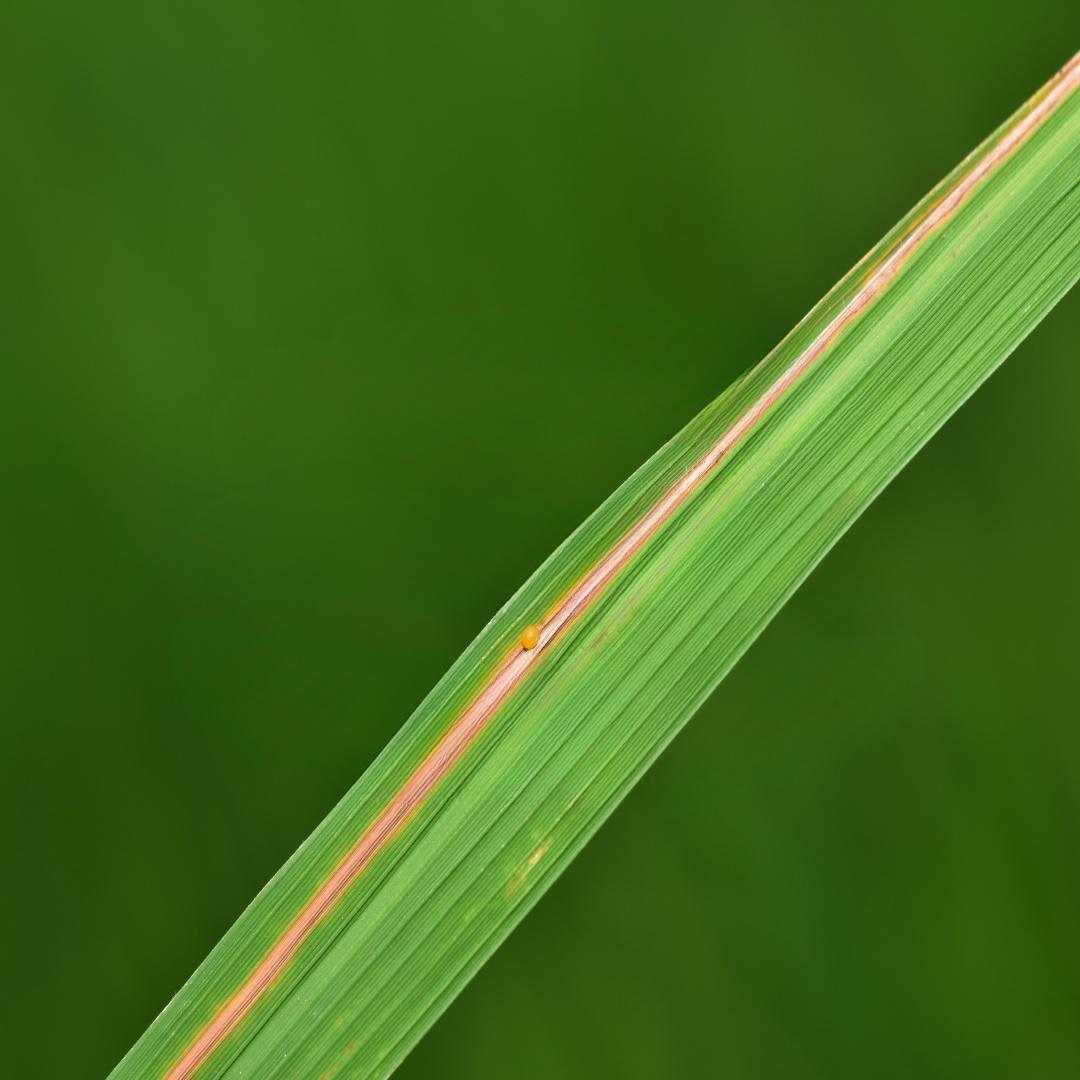BLB: (166, 56, 1079, 1079)
LEAF: (111, 54, 1079, 1079)
